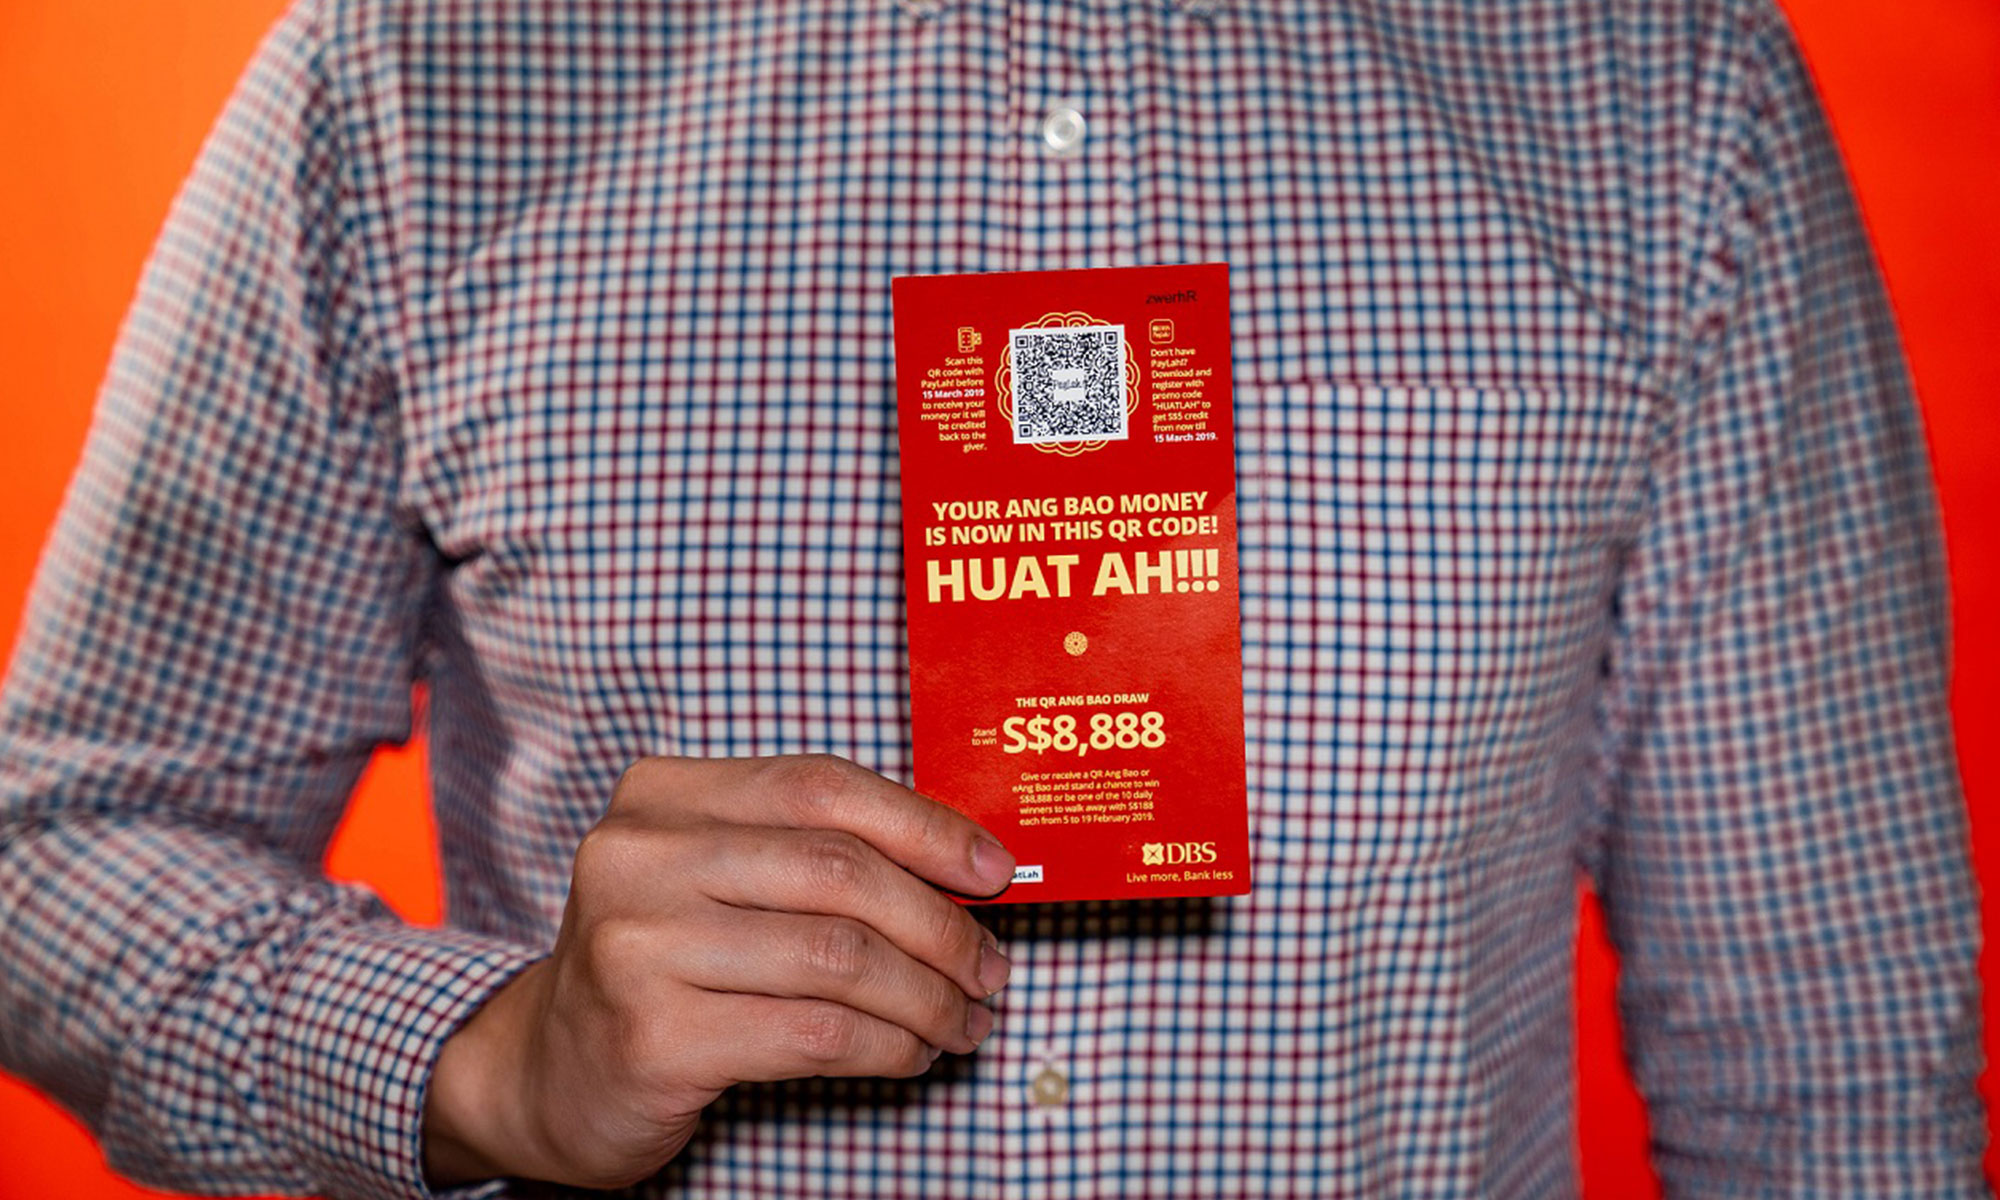qr_code: (999, 319, 1136, 449)
